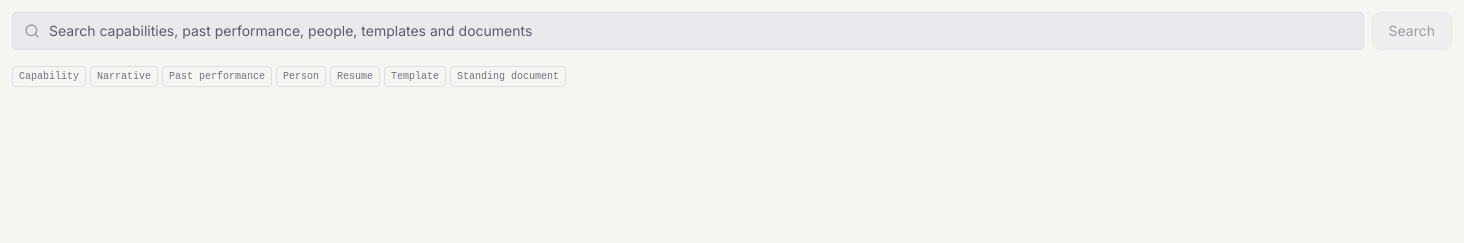
Test: KnowledgeSearch › states that it is a database text search, not an AI one
Replace the text in the field named "Search knowledge" with "x": (688, 31) [12, 12, 1364, 50]
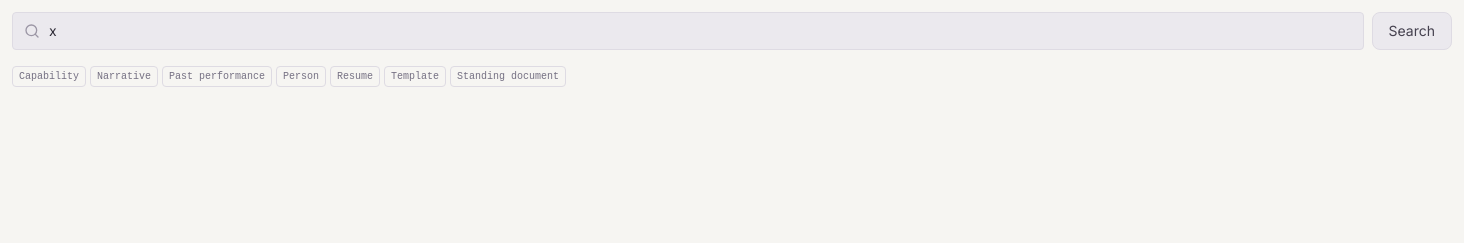
Click the button "Search": (1412, 31) [1372, 12, 1452, 50]
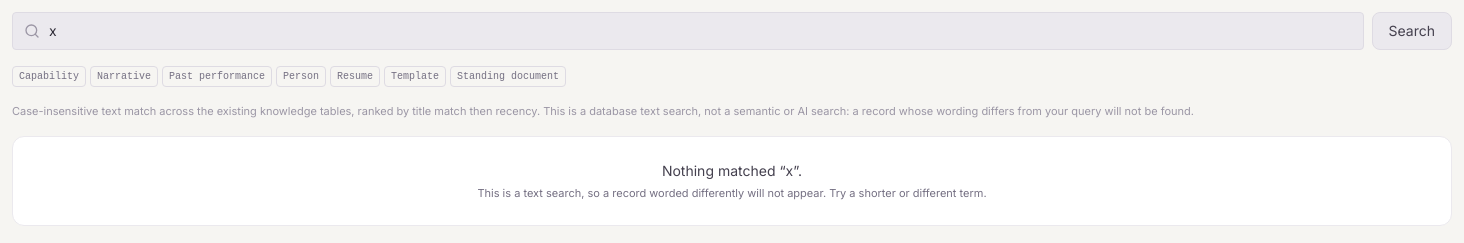
Result: the text "not a semantic or AI search" is shown at [12, 104, 1194, 118]
